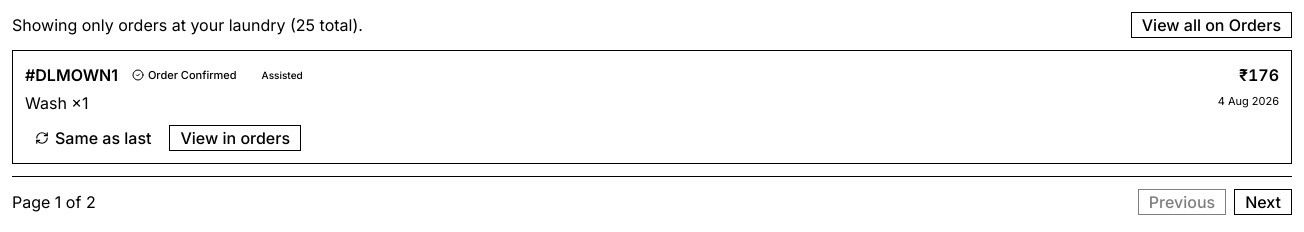
it: PartnerCustomerDeskOrdersTab scoped empty state › paginates laundry-scoped history with Next
Expected: the text "#DLMOWN1" is shown, [25,63,118,87]
Click the button "Next" at (1263, 202), box [1234,189,1292,215]
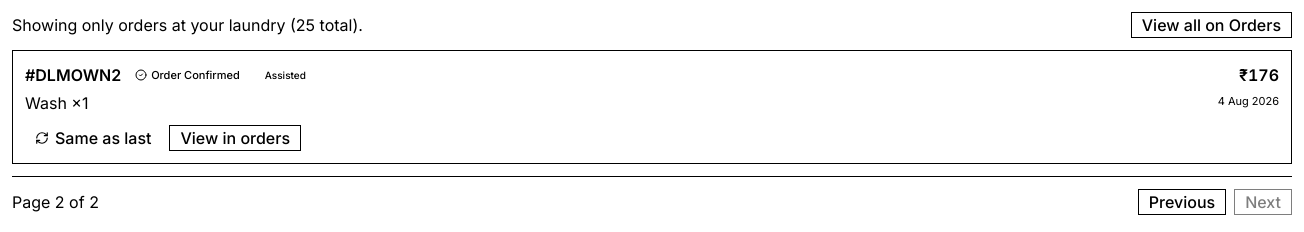
Result: the text "#DLMOWN2" is shown at [25,63,121,87]
